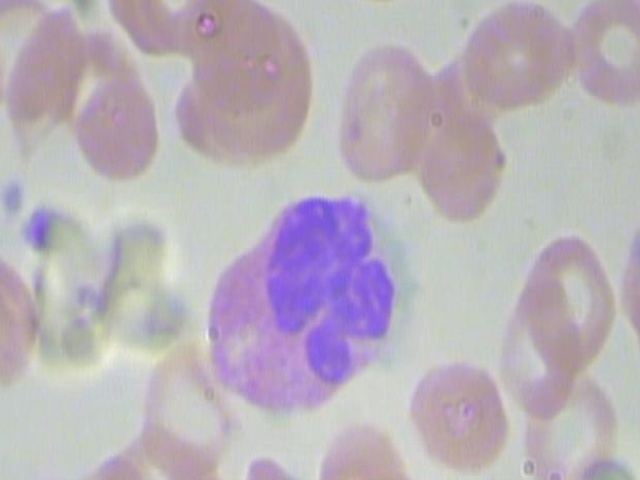RBC: (332, 35, 437, 182), (519, 230, 616, 373), (463, 0, 579, 112), (401, 358, 504, 480), (517, 363, 622, 480), (73, 70, 161, 186), (500, 289, 575, 414), (565, 0, 640, 108), (330, 0, 446, 7)
WBC: (199, 186, 405, 424)
